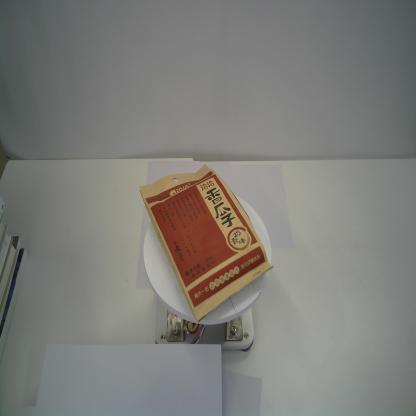Dried Food: (139, 163, 273, 324)
